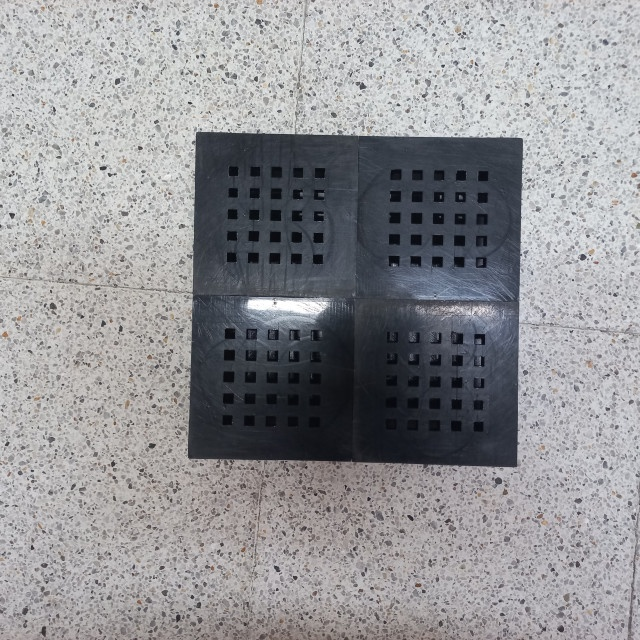pallet: (186, 129, 521, 472)
